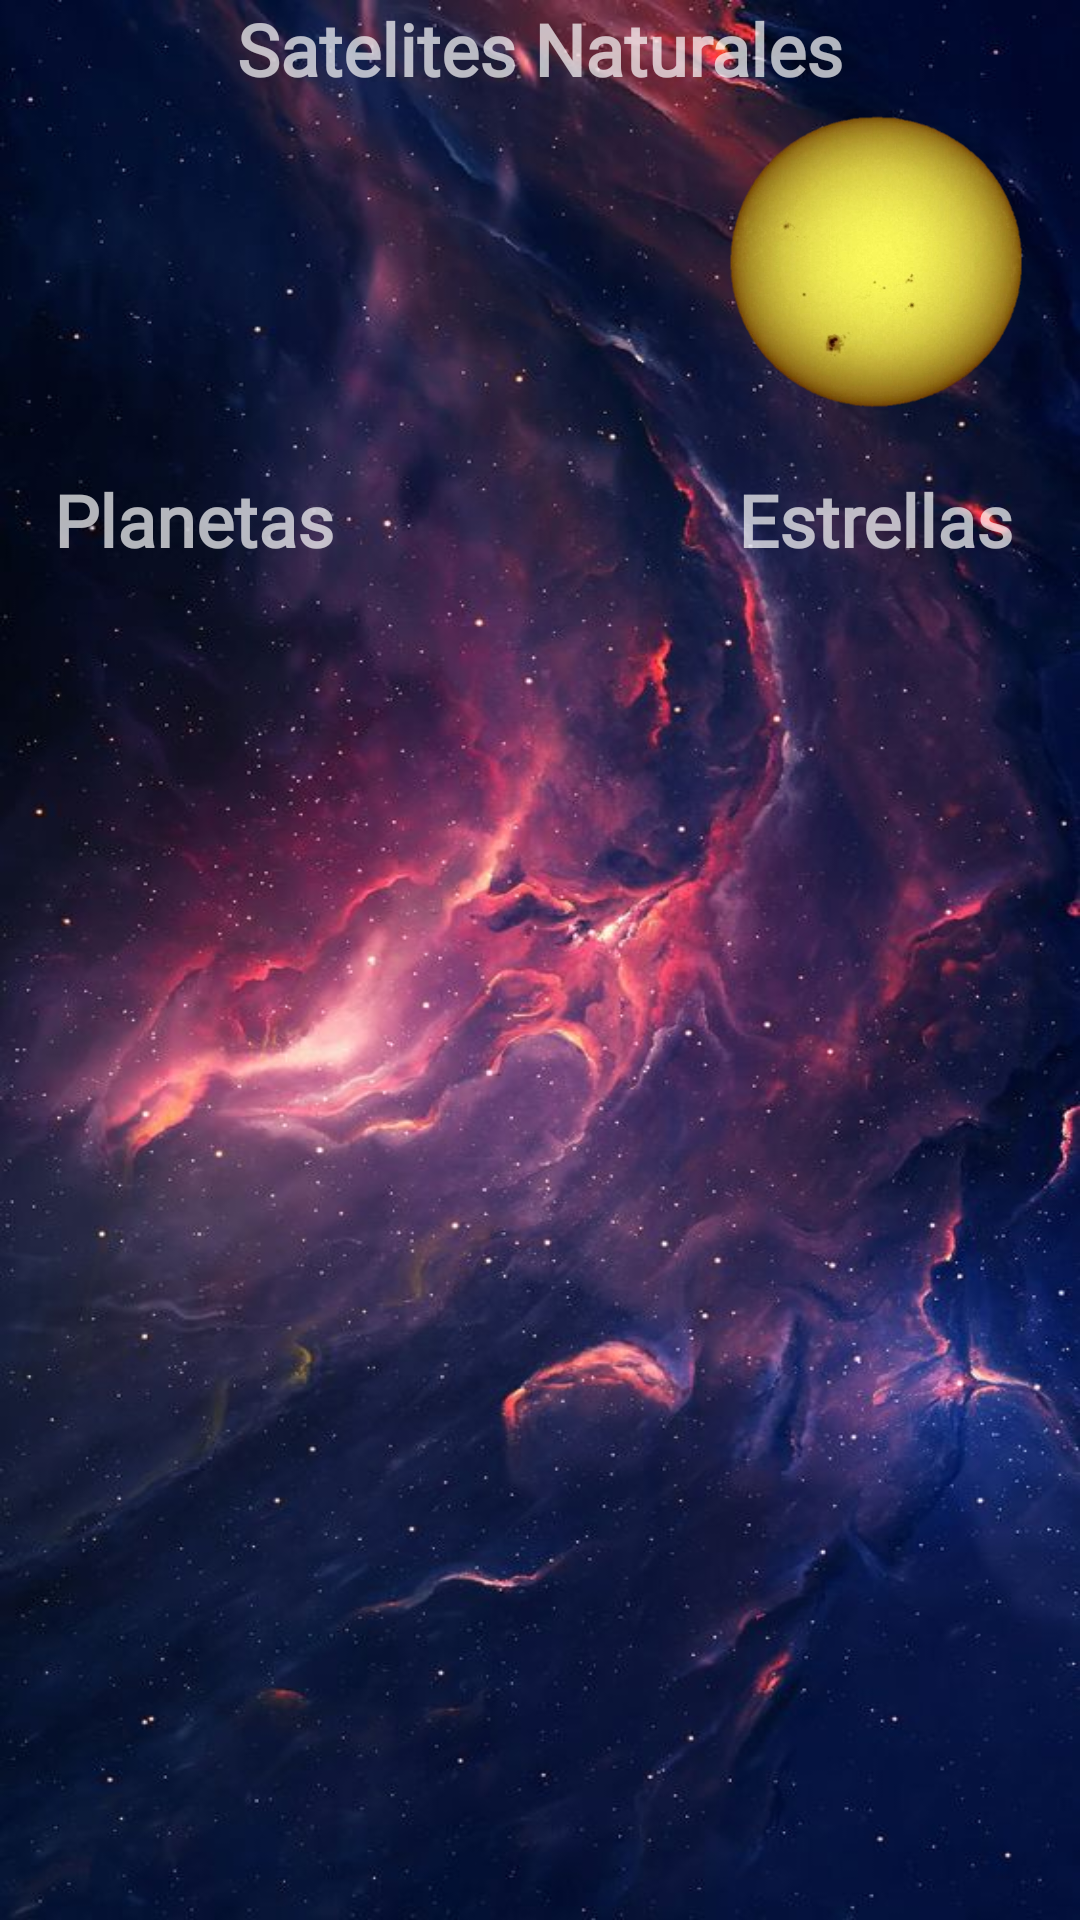

Where to tap for icons on this 1080px x 1920px app screen, as [x,y]:
sunpng: [876,261]
